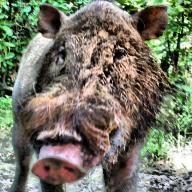boar: (8, 0, 189, 192)
